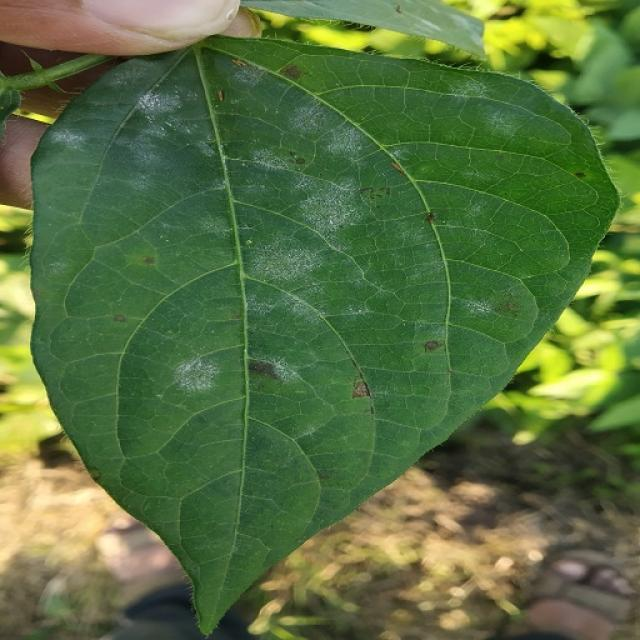Blackgram: (31, 39, 618, 631)
Powdery_Mildew: (101, 86, 208, 197), (248, 207, 355, 294), (312, 114, 374, 164), (390, 6, 467, 43), (248, 146, 310, 183), (178, 355, 220, 406), (246, 355, 300, 388), (135, 84, 181, 116), (124, 246, 160, 272), (461, 298, 496, 316), (358, 186, 390, 200), (498, 298, 519, 317), (113, 314, 127, 323)
